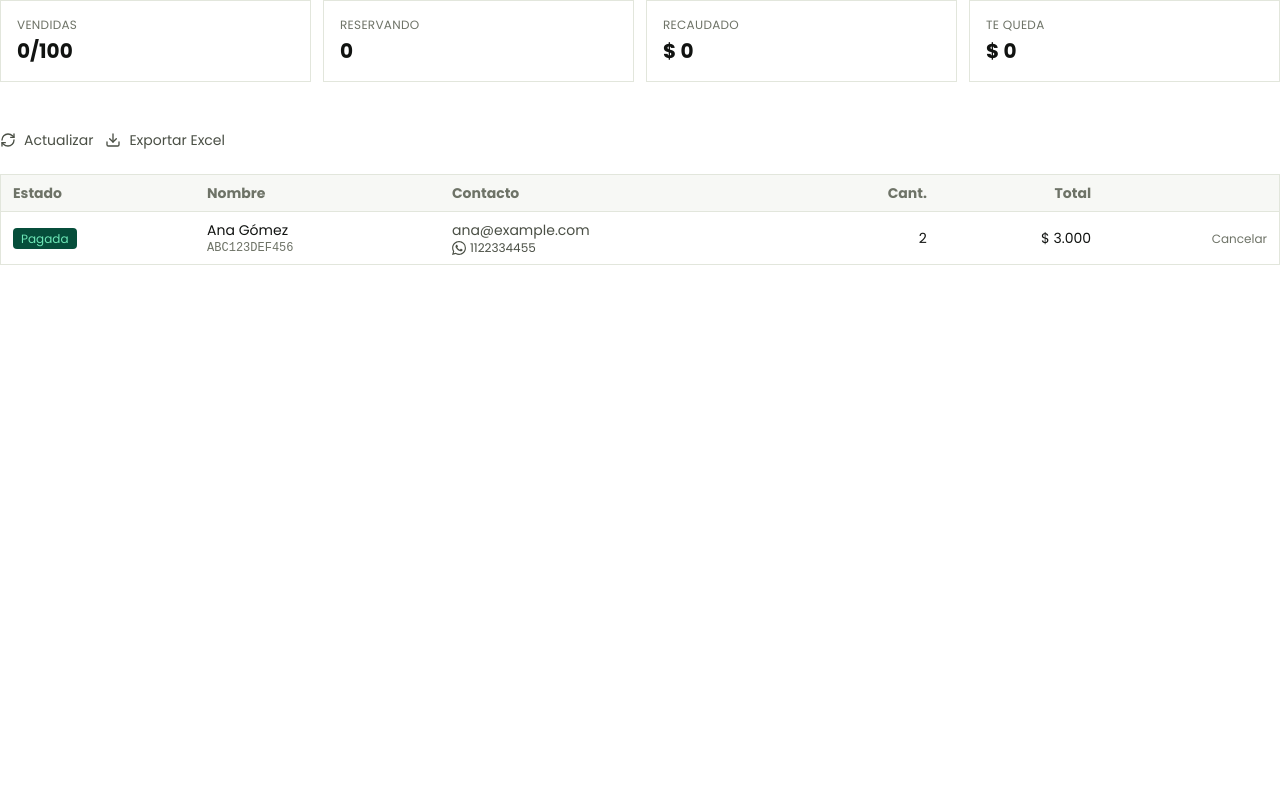
Test case: PanelVentas › cancelar una compra › el listado se actualiza sin volver a pedir las ventas
Click the button "Cancelar": (1239, 239) [1212,231,1267,247]
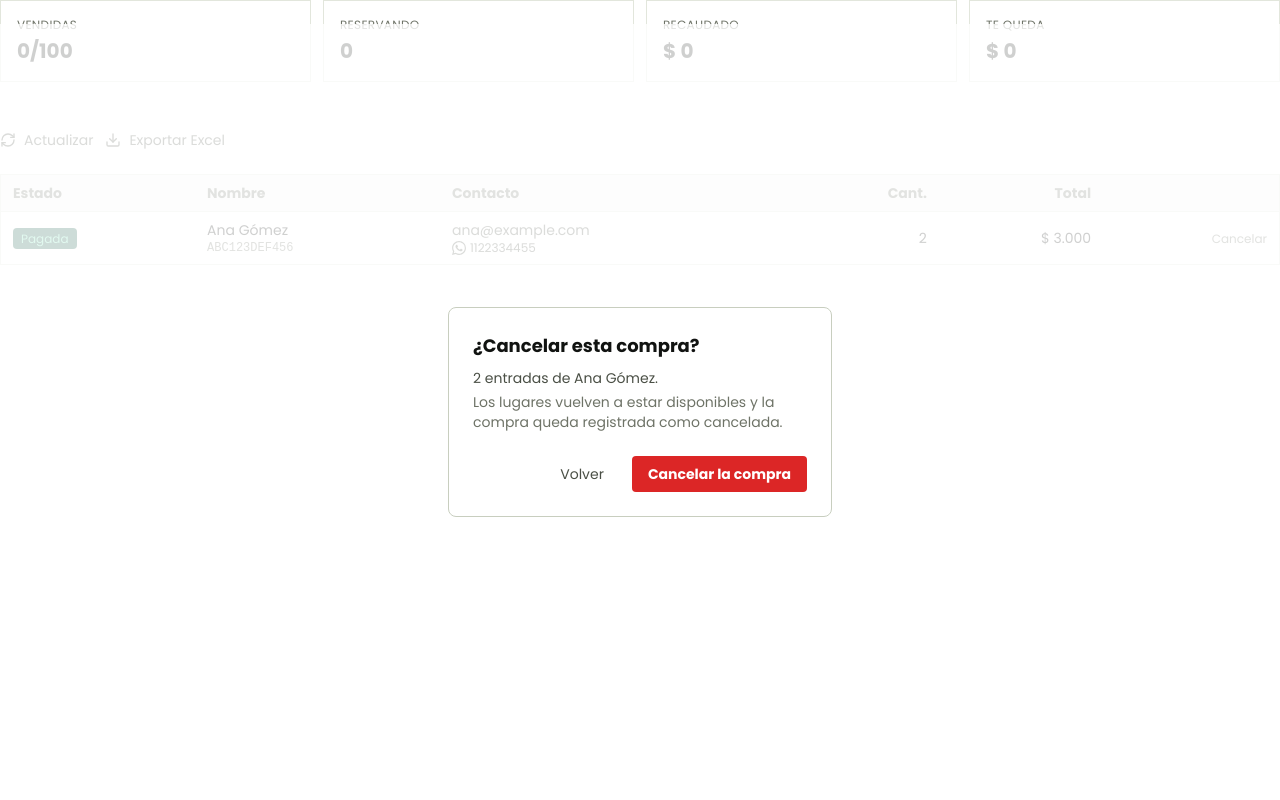
Expected: the heading "¿Cancelar esta compra?" is shown, [473,333,700,358]
Click the button "Cancelar la compra": (719, 474) [632,456,807,492]
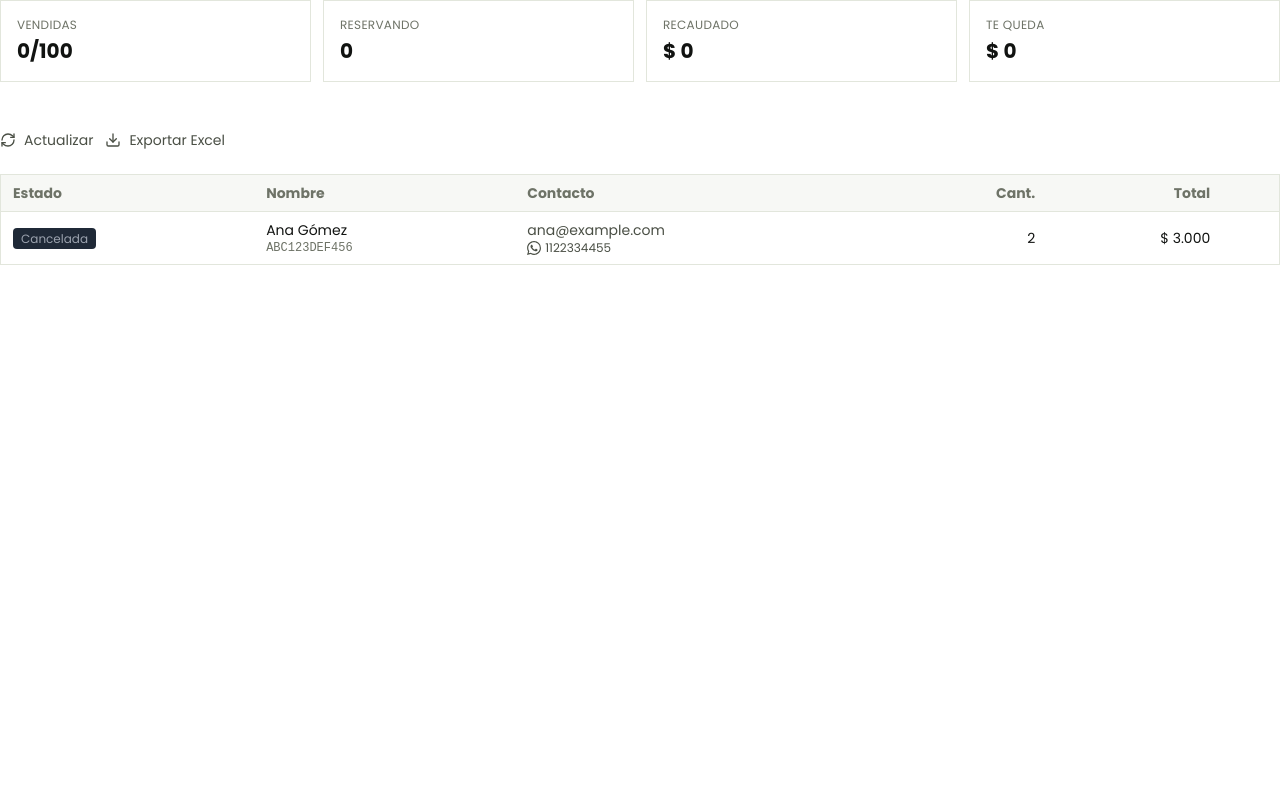
Expected: the button "Cancelar" is gone
